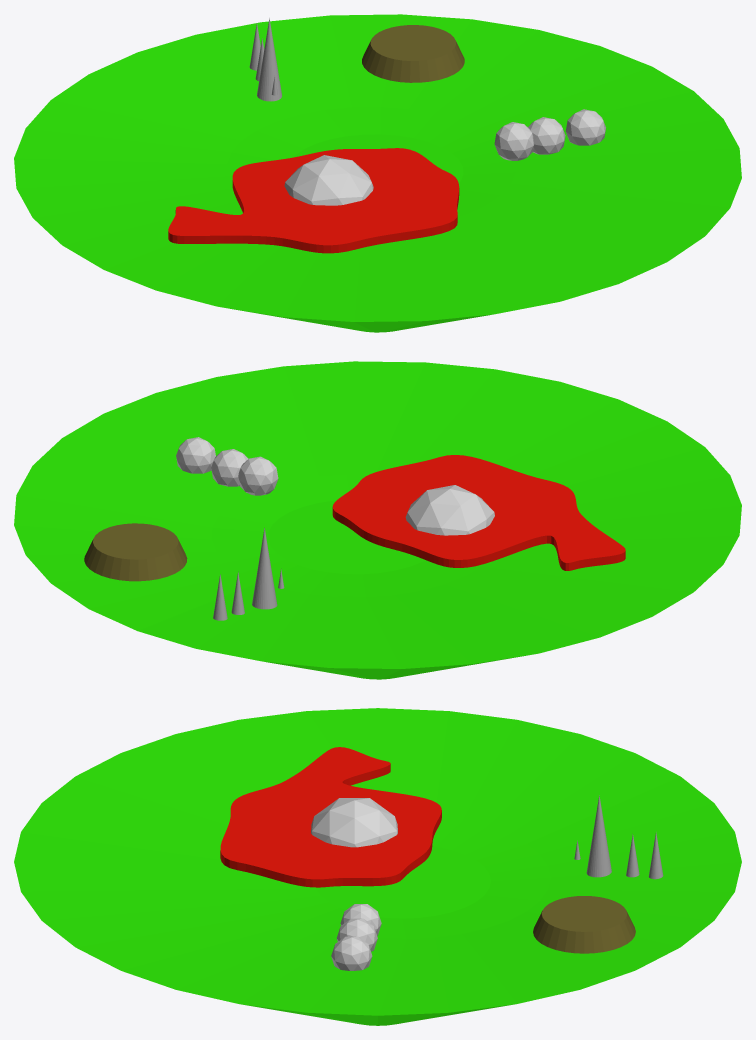
Rendered from grassWorld.dae.
3 views of the same model, one above another, from view 1: azimuth 30°, elevation 25°; view 2: azimuth 150°, elevation 25°; view 3: azimuth 270°, elevation 25° (orthographic).
Parts seen in each view (by area): view 1: Cone_003; view 2: Cone_003; view 3: Cone_003.
Part boxes in pixels (x1,y1,x2,y2): Cone_003: [14, 14, 741, 332]; Cone_003: [14, 361, 741, 679]; Cone_003: [14, 708, 741, 1025].
Size of the model in its own units: 17.03 by 17.03 by 5.52.
